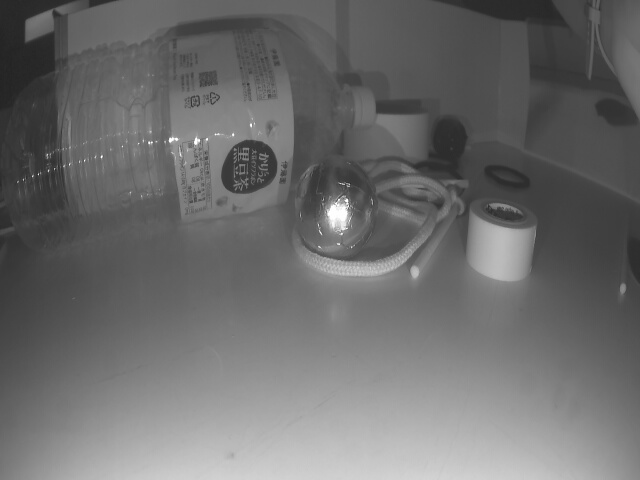Dead: (435, 115, 467, 158)
Live: (291, 154, 378, 256)
